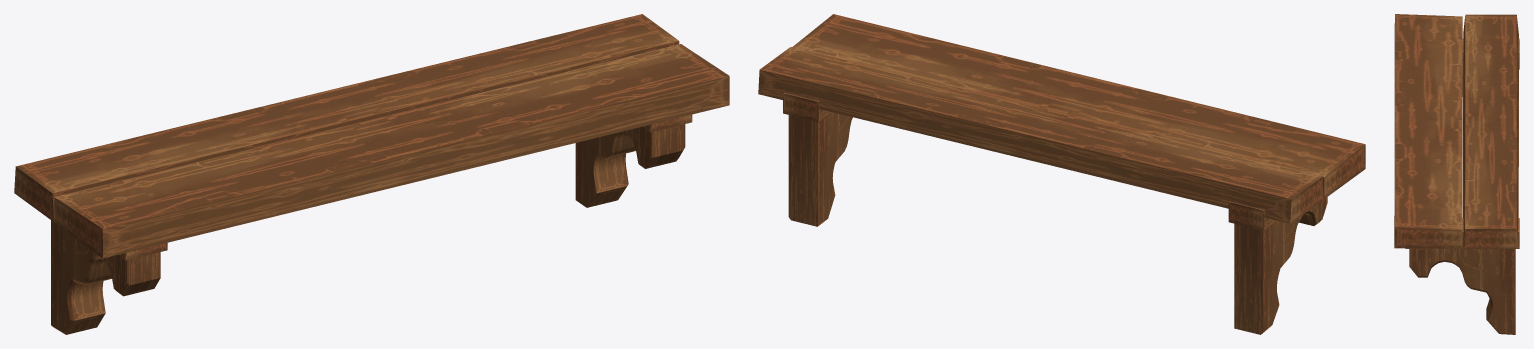
File: Shelf_Simple.gltf
3 views of the same model, side by side, from view 1: azimuth 30°, elevation 25°; view 2: azimuth 150°, elevation 25°; view 3: azimuth 270°, elevation 25° (orthographic). The views are drawn at different scales.
Visible parts, largest first — view 1: Shelf_Simple; view 2: Shelf_Simple; view 3: Shelf_Simple.
Boxes of the visible parts, x1,y1,x2,y2 form: Shelf_Simple: [14, 14, 729, 334]; Shelf_Simple: [758, 14, 1365, 334]; Shelf_Simple: [1394, 14, 1519, 334].
Bounding box in the file's own units: 1.18 × 0.3087 × 0.2923.
Materials: 1 (1 with a texture image).
